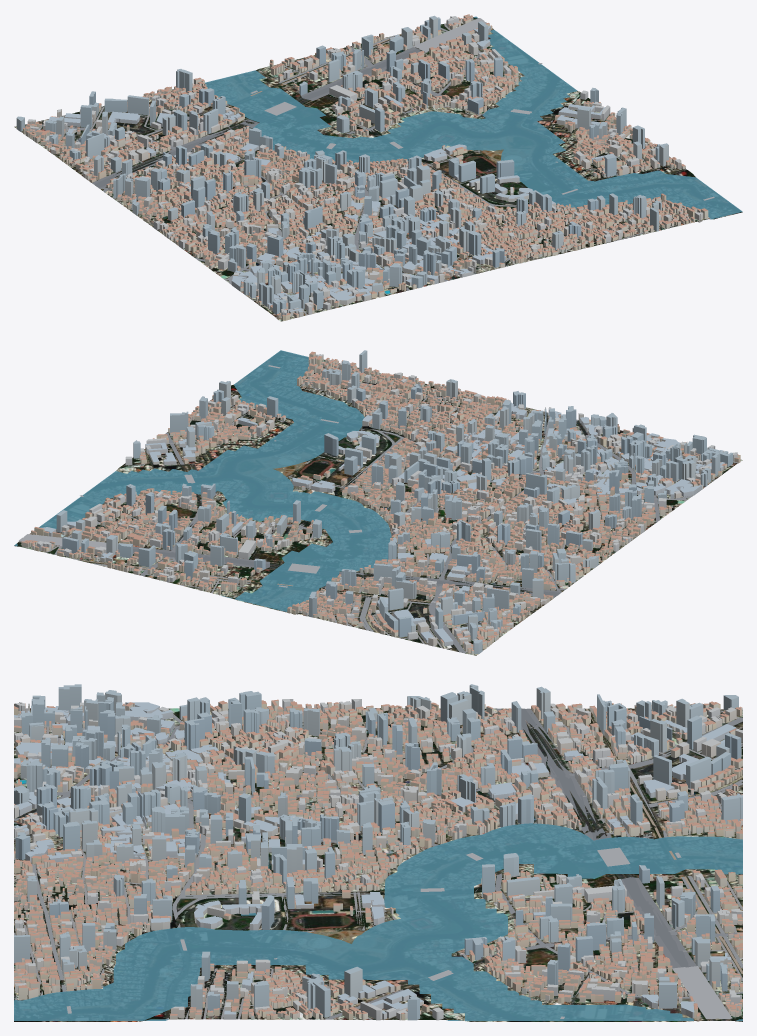
3 views of the same model, one above another, from view 1: azimuth 30°, elevation 25°; view 2: azimuth 150°, elevation 25°; view 3: azimuth 270°, elevation 25° (orthographic). The views are drawn at different scales.
Visible parts, largest first — view 1: BLDG_MODERN_TOWER, BLDG_SHOPHOUSE, WATER, TERRAIN, BLDG_APARTMENT, BLDG_INDUSTRIAL_PORT, BLDG_TUBE_HOUSE, ROAD_METRO; view 2: BLDG_MODERN_TOWER, BLDG_SHOPHOUSE, WATER, TERRAIN, BLDG_APARTMENT, BLDG_INDUSTRIAL_PORT, ROAD_METRO, BLDG_TUBE_HOUSE; view 3: BLDG_MODERN_TOWER, BLDG_SHOPHOUSE, WATER, TERRAIN, BLDG_APARTMENT, ROAD_METRO, BLDG_INDUSTRIAL_PORT, BLDG_TUBE_HOUSE.
Boxes of the visible parts, x1,y1,x2,y2 form: BLDG_MODERN_TOWER: [16, 15, 668, 314]; BLDG_SHOPHOUSE: [23, 14, 708, 320]; WATER: [205, 16, 742, 219]; TERRAIN: [14, 17, 742, 321]; BLDG_APARTMENT: [27, 16, 703, 318]; BLDG_INDUSTRIAL_PORT: [48, 26, 614, 317]; BLDG_TUBE_HOUSE: [30, 15, 691, 310]; ROAD_METRO: [25, 18, 714, 317]; BLDG_MODERN_TOWER: [56, 350, 732, 654]; BLDG_SHOPHOUSE: [22, 351, 740, 653]; WATER: [14, 350, 391, 611]; TERRAIN: [14, 359, 742, 655]; BLDG_APARTMENT: [37, 354, 737, 651]; BLDG_INDUSTRIAL_PORT: [41, 403, 725, 646]; ROAD_METRO: [19, 365, 738, 653]; BLDG_TUBE_HOUSE: [21, 358, 708, 654]; BLDG_MODERN_TOWER: [14, 684, 742, 1020]; BLDG_SHOPHOUSE: [14, 699, 742, 1021]; WATER: [14, 823, 742, 1020]; TERRAIN: [14, 708, 742, 1021]; BLDG_APARTMENT: [14, 699, 742, 1020]; ROAD_METRO: [14, 708, 742, 1019]; BLDG_INDUSTRIAL_PORT: [14, 702, 736, 1019]; BLDG_TUBE_HOUSE: [14, 703, 742, 1019].
Bounding box in the file's own units: 2000 × 102 × 2000.
8 materials, 1 textured.
